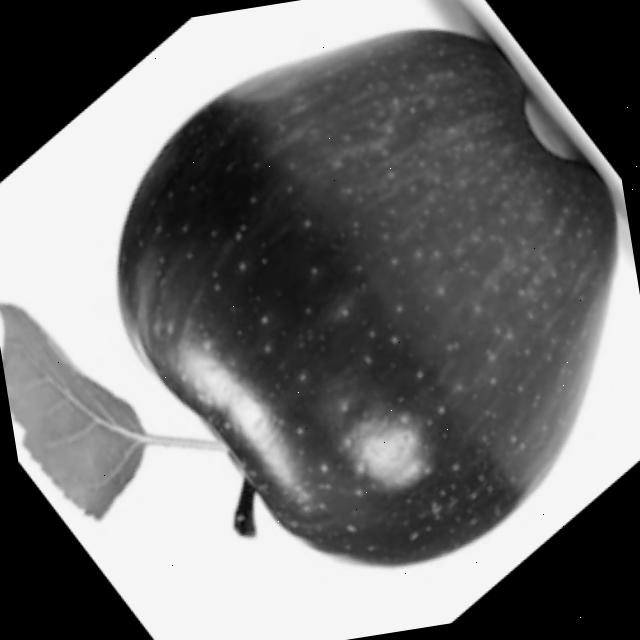Ripe: (74, 0, 640, 613)
